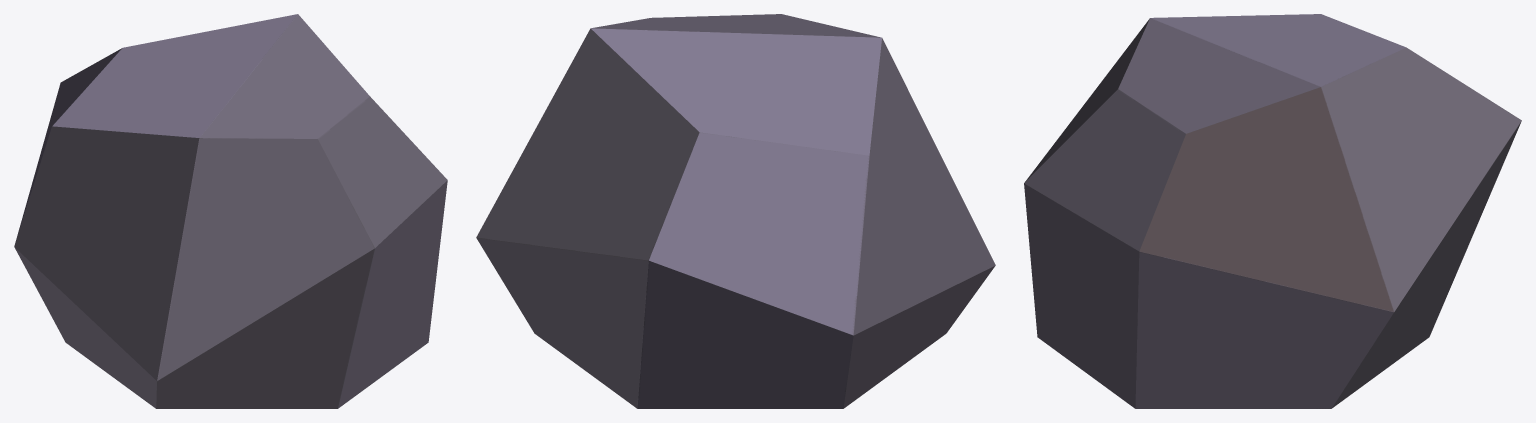
File: rocha-2.fbx
3 views of the same model, side by side, from view 1: azimuth 30°, elevation 25°; view 2: azimuth 150°, elevation 25°; view 3: azimuth 270°, elevation 25° (orthographic). The views are drawn at different scales.
Visible parts, largest first — view 1: rocha-2; view 2: rocha-2; view 3: rocha-2.
Part boxes in pixels (x1,y1,x2,y2): rocha-2: (14, 14, 447, 408); rocha-2: (476, 14, 995, 408); rocha-2: (1024, 14, 1521, 408).
Size of the model in its own units: 146 by 119 by 180.
